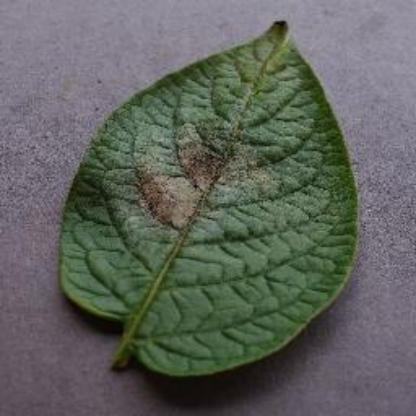Late-Blight: (31, 17, 387, 389)
